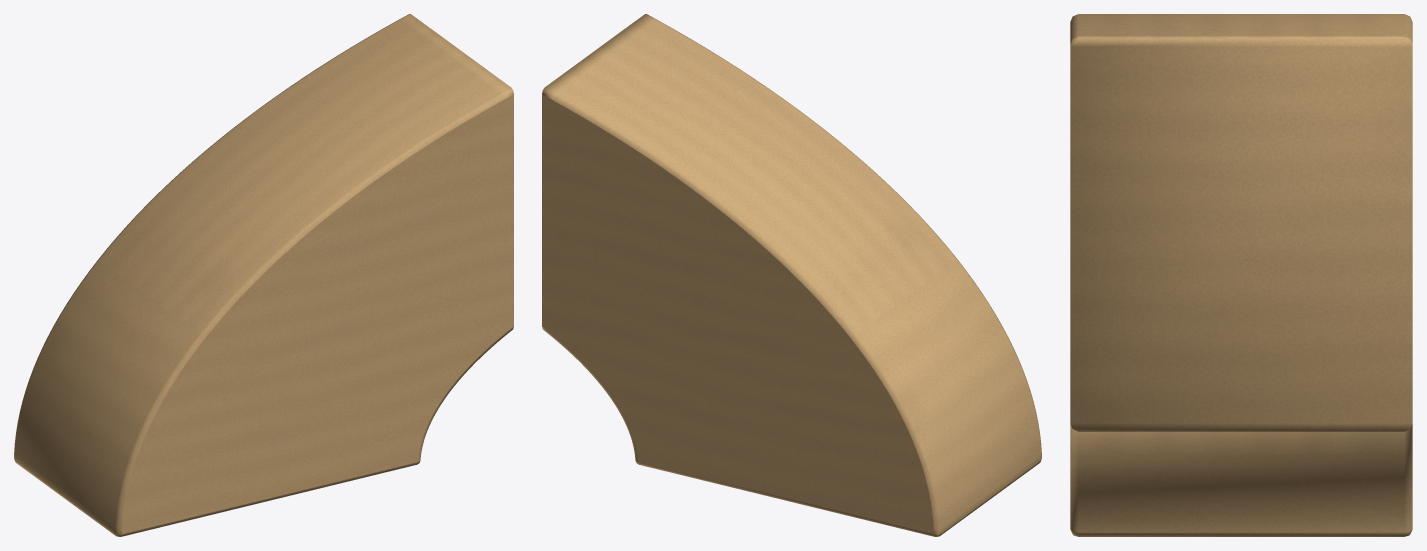
Rendered from 3-curved-wood-arch-sector-1.fbx.
3 views of the same model, side by side, from view 1: azimuth 30°, elevation 25°; view 2: azimuth 150°, elevation 25°; view 3: azimuth 270°, elevation 25° (orthographic). The views are drawn at different scales.
Parts seen in each view (by area): view 1: curved-wood-arch-sector-1; view 2: curved-wood-arch-sector-1; view 3: curved-wood-arch-sector-1.
Part boxes in pixels (box(x1,y1,x2,y2)): curved-wood-arch-sector-1: box(14, 14, 513, 536); curved-wood-arch-sector-1: box(542, 14, 1041, 536); curved-wood-arch-sector-1: box(1070, 14, 1412, 536).
Bounding box in the file's own units: 6498 × 5542 × 3000.
Materials: 1 (1 with a texture image).
